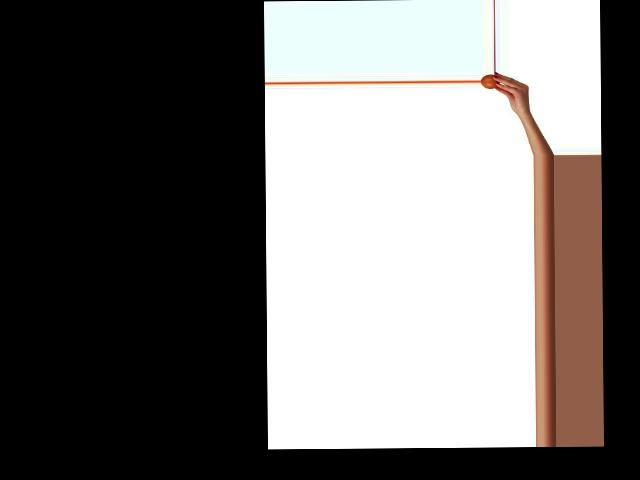egg: (481, 74, 499, 89)
